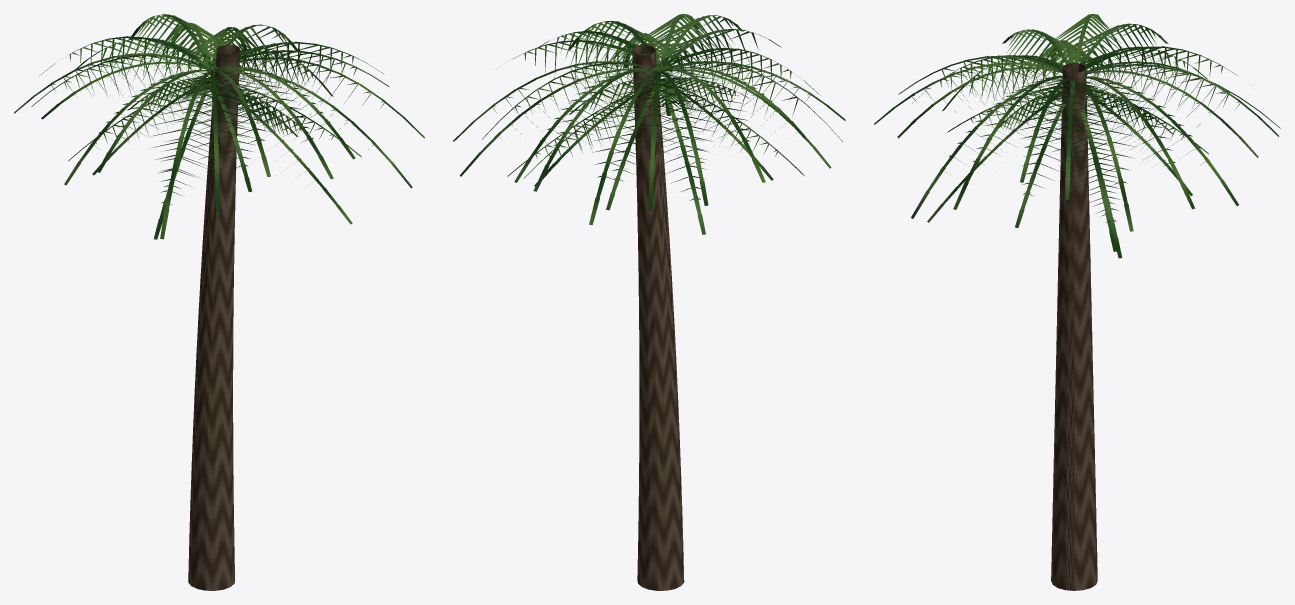
Rendered from palm_tree.glb.
3 renders of one model, left to right at view 1: azimuth 30°, elevation 25°; view 2: azimuth 150°, elevation 25°; view 3: azimuth 270°, elevation 25°, orthographic.
Parts seen in each view (by area): view 1: palm_tree; view 2: palm_tree; view 3: palm_tree.
Part boxes in pixels (x1,y1,x2,y2): palm_tree: (14,14,424,590); palm_tree: (453,14,845,590); palm_tree: (874,14,1280,590).
Bounding box in the file's own units: 5.85 × 9 × 6.35.
2 materials, 2 textured.
